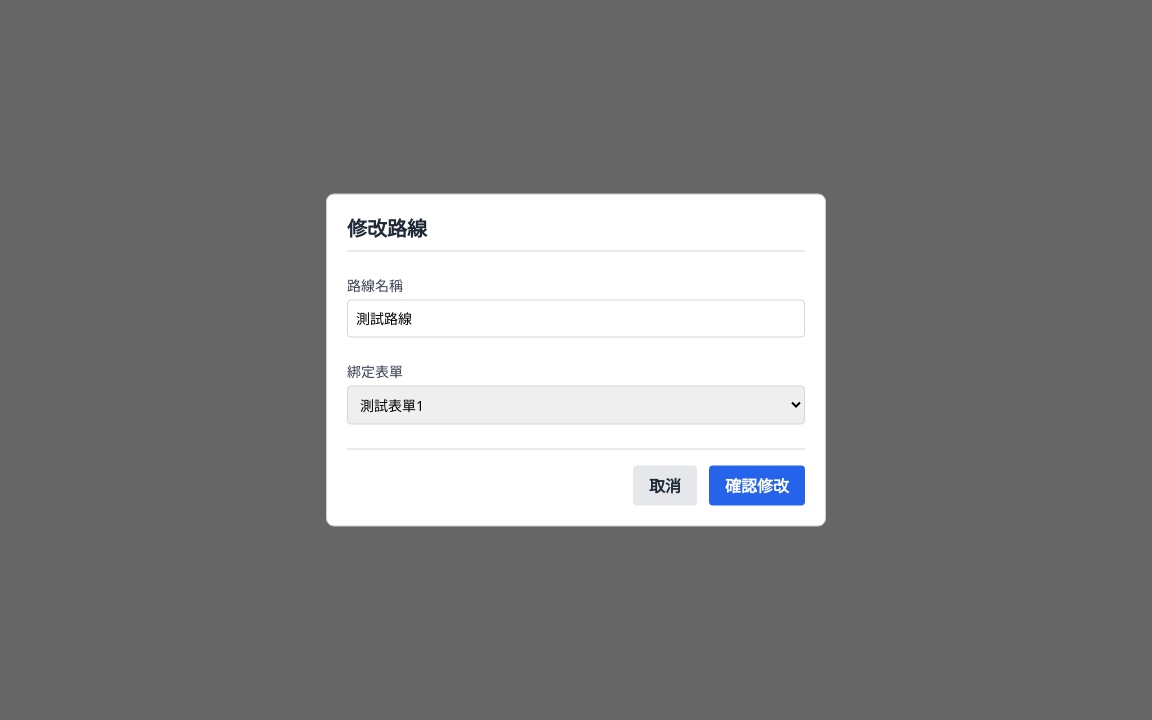
Test: CreateRouteModal Component › 編輯路線功能 › 應該處理編輯失敗
Check: the field showing "測試路線" is shown, box [347,300,805,338]
Click the button "確認修改" at [757, 486], box [709,466,805,506]
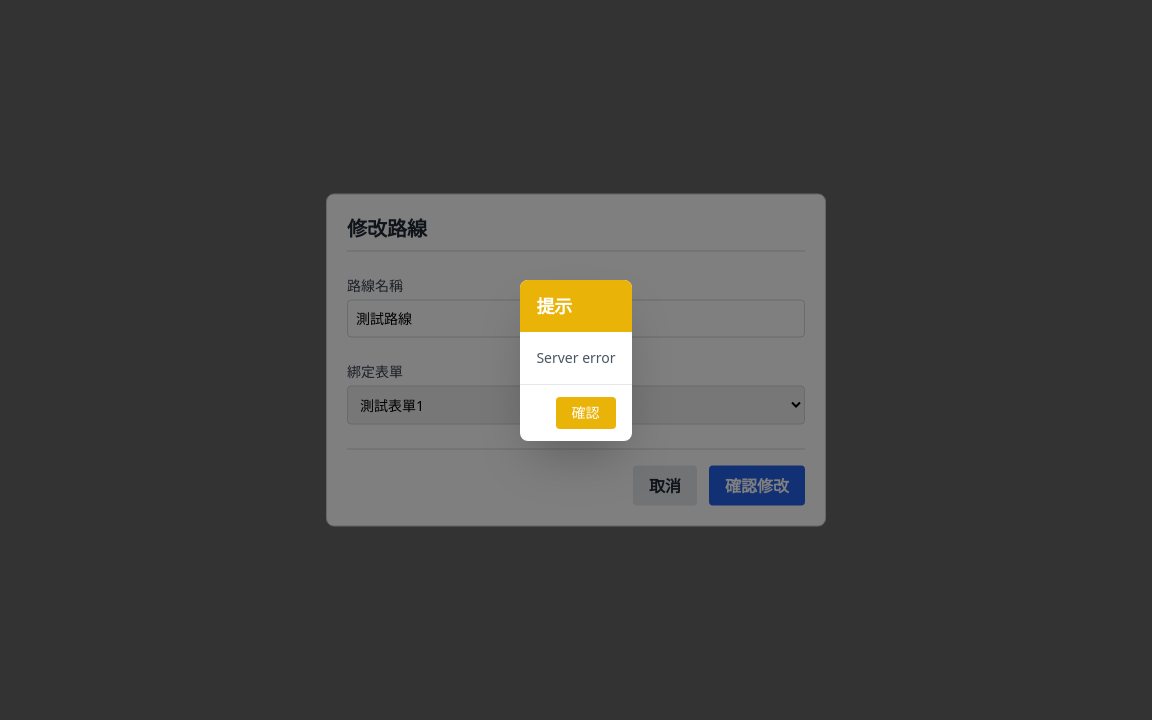
Check: the text "Server error" is shown, box [536,348,616,368]
